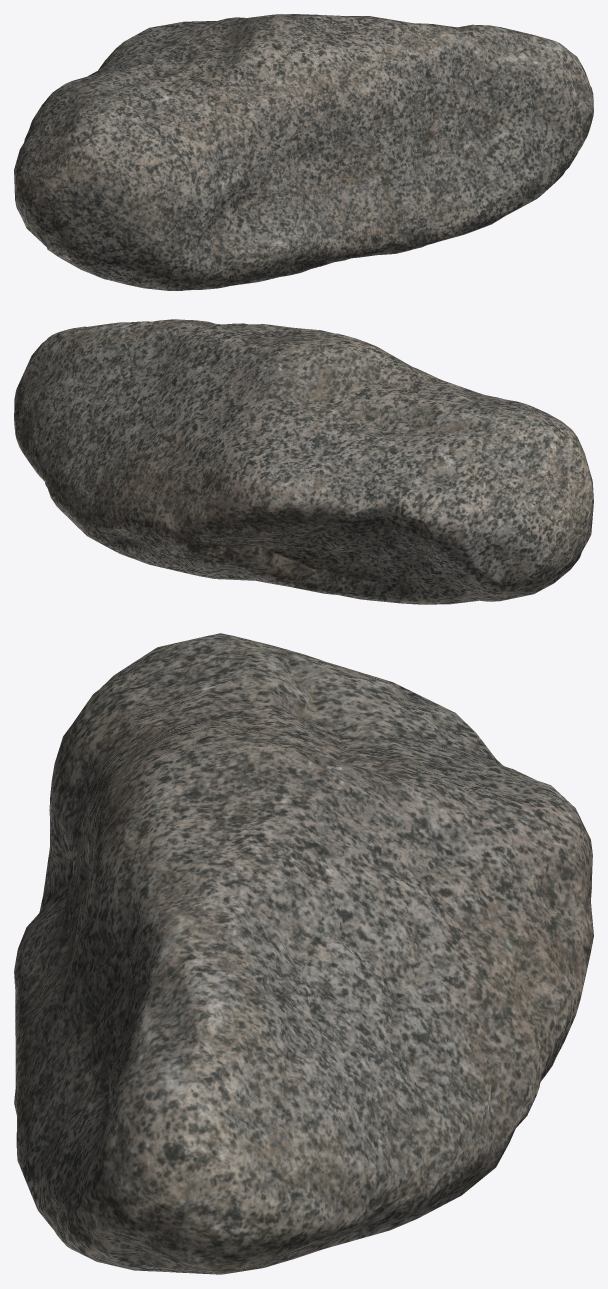
The model's file is SM_whhmabe_tier_2.gltf.
The picture shows the model from 3 angles, top to bottom: view 1: azimuth 30°, elevation 25°; view 2: azimuth 150°, elevation 25°; view 3: azimuth 270°, elevation 25°; orthographic projection. The views are drawn at different scales.
Visible parts, largest first — view 1: whhmabe_LOD2_TIER2_000; view 2: whhmabe_LOD2_TIER2_000; view 3: whhmabe_LOD2_TIER2_000.
Boxes of the visible parts, x1,y1,x2,y2 form: whhmabe_LOD2_TIER2_000: (14, 14, 593, 290); whhmabe_LOD2_TIER2_000: (14, 319, 593, 604); whhmabe_LOD2_TIER2_000: (14, 633, 593, 1274).
Bounding box in the file's own units: 0.3517 × 0.1297 × 0.1834.
Materials: 1 (1 with a texture image).
